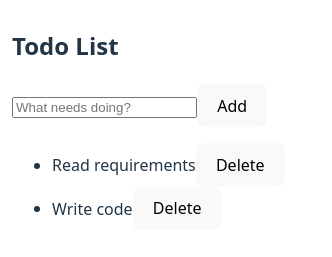
Scenario: TodoList › adds a new todo
Type "New Task" into the field with placeholder "What needs doing?" at (104, 107), box [12, 97, 197, 118]
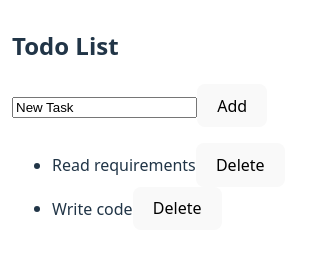
# Click the Add button (text "Add")
Click the button "Add" at (232, 106), box [197, 84, 267, 127]
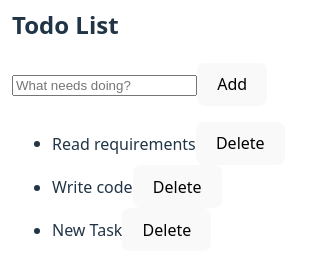
Expected: the text "New Task" is shown, [52, 219, 122, 241]
